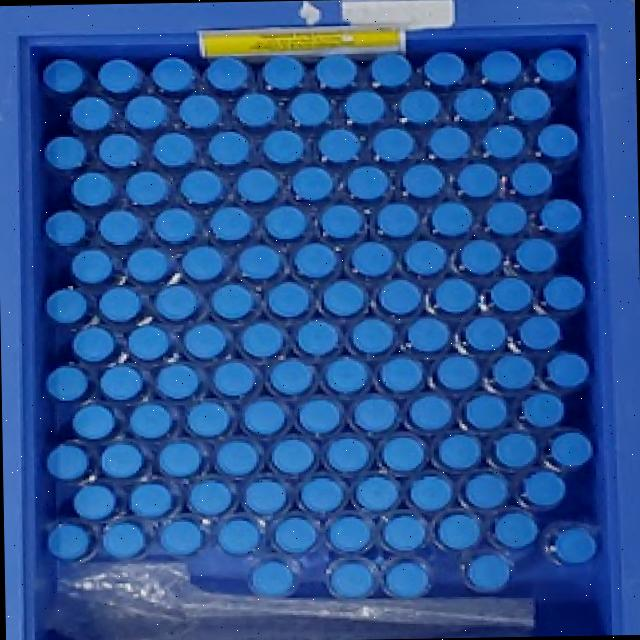vials: (352, 395, 399, 432), (494, 510, 538, 549), (249, 560, 296, 596), (467, 553, 510, 592), (102, 521, 146, 559), (521, 470, 566, 507), (551, 527, 597, 563), (329, 561, 375, 597), (48, 522, 91, 560), (151, 56, 195, 93), (127, 324, 171, 361), (183, 323, 227, 360), (409, 474, 453, 511), (300, 476, 344, 513), (385, 560, 429, 597), (97, 58, 142, 94), (324, 357, 369, 393), (270, 358, 313, 395), (409, 394, 452, 431), (46, 443, 89, 480), (328, 515, 371, 552), (211, 284, 255, 320), (155, 285, 199, 321), (98, 286, 142, 322), (71, 326, 115, 362), (212, 360, 256, 396), (546, 352, 590, 388), (186, 401, 230, 437), (271, 438, 315, 474), (355, 475, 399, 511), (189, 480, 233, 516), (159, 519, 203, 555), (437, 513, 481, 549), (543, 274, 585, 311), (245, 478, 287, 515), (127, 247, 170, 283), (296, 320, 339, 356), (465, 472, 508, 508), (73, 484, 116, 520), (218, 518, 261, 554), (293, 243, 337, 278), (267, 282, 311, 317), (45, 366, 89, 401), (99, 365, 143, 400), (240, 322, 284, 357), (406, 317, 450, 352), (436, 355, 480, 390), (71, 404, 115, 439), (215, 440, 259, 475), (381, 436, 425, 471), (437, 434, 481, 469), (154, 207, 196, 243), (435, 278, 477, 314), (379, 279, 421, 315), (323, 280, 365, 316), (380, 356, 422, 392), (465, 394, 507, 430), (274, 517, 316, 553), (383, 514, 425, 550), (98, 134, 141, 169), (402, 163, 445, 198), (346, 165, 389, 200), (515, 237, 558, 272), (157, 364, 200, 399), (351, 318, 394, 353), (518, 315, 561, 350), (522, 392, 565, 427), (298, 399, 341, 434), (243, 400, 286, 435), (129, 403, 172, 438), (100, 442, 143, 477), (159, 441, 202, 476), (326, 437, 369, 472), (494, 432, 537, 467), (550, 432, 593, 467), (351, 242, 395, 276), (461, 238, 502, 274), (206, 57, 248, 92), (370, 52, 412, 87), (423, 51, 465, 86), (344, 89, 386, 124), (235, 92, 277, 127), (483, 124, 525, 159), (236, 167, 278, 202), (126, 170, 168, 205), (72, 172, 114, 207), (44, 211, 86, 246), (70, 249, 112, 284), (98, 210, 140, 245), (182, 246, 224, 281), (45, 288, 87, 323), (464, 316, 506, 351), (492, 354, 534, 389), (130, 482, 172, 517), (42, 58, 85, 92), (70, 96, 113, 130), (180, 170, 223, 204), (238, 245, 281, 279), (430, 202, 473, 236), (490, 278, 533, 312), (263, 55, 304, 90), (429, 125, 470, 160), (292, 166, 333, 201), (377, 202, 418, 237), (486, 201, 527, 236), (540, 198, 581, 233), (454, 87, 496, 121), (179, 94, 221, 128), (125, 95, 167, 129), (44, 136, 86, 170), (319, 128, 361, 162), (457, 162, 499, 196), (210, 206, 252, 240), (264, 205, 306, 239), (404, 241, 446, 275), (263, 129, 303, 164), (538, 123, 578, 158), (316, 55, 357, 89), (480, 50, 521, 84), (510, 86, 551, 120), (399, 89, 440, 123), (289, 93, 330, 127), (208, 131, 249, 165), (373, 127, 414, 161), (511, 162, 552, 196), (153, 133, 195, 166), (320, 205, 362, 238), (536, 48, 575, 82)
